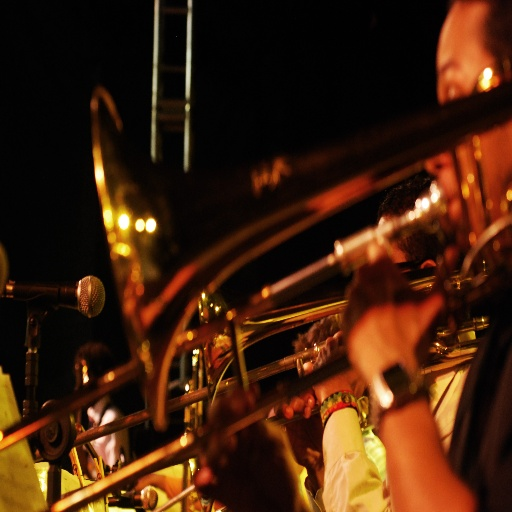hand: (337, 249, 446, 385), (189, 388, 304, 511), (432, 7, 504, 115), (308, 326, 360, 404), (134, 472, 156, 492)
